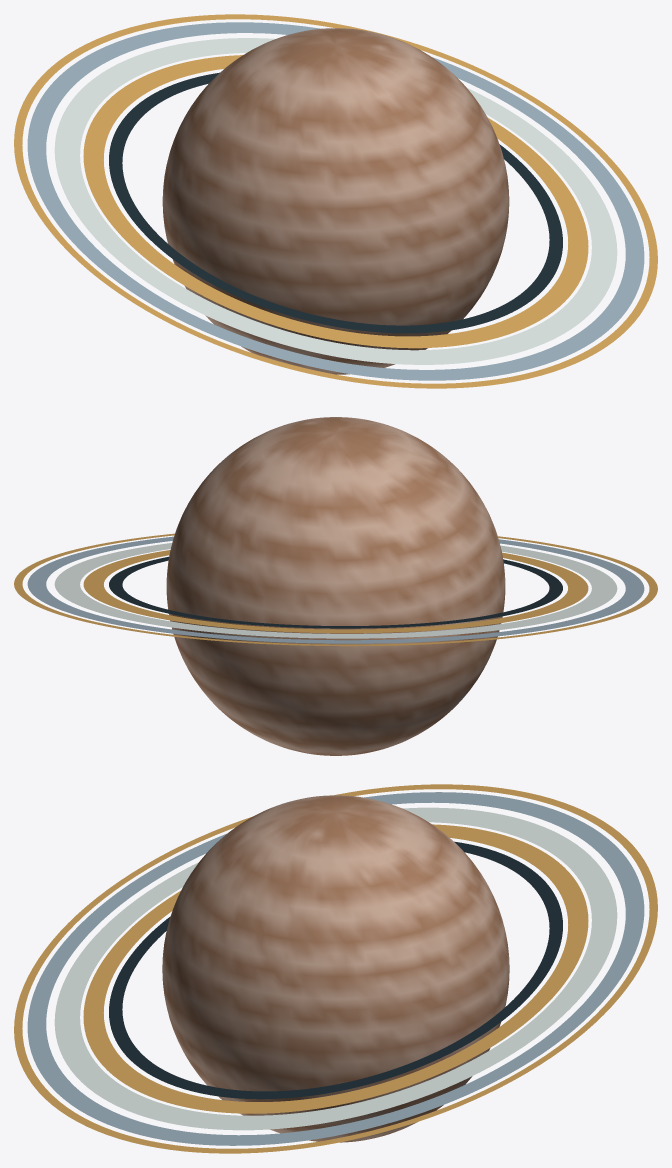
The model's file is world_gas.glb.
3 renders of one model, top to bottom at view 1: azimuth 30°, elevation 25°; view 2: azimuth 150°, elevation 25°; view 3: azimuth 270°, elevation 25°, orthographic. The views are drawn at different scales.
Visible parts, largest first — view 1: Geometry_world_gas; view 2: Geometry_world_gas; view 3: Geometry_world_gas.
Boxes of the visible parts, <box> form: Geometry_world_gas: <box>14,14,657,388</box>; Geometry_world_gas: <box>14,417,657,755</box>; Geometry_world_gas: <box>14,784,657,1153</box>.
Size of the model in its own units: 3.77 by 2 by 3.71.
